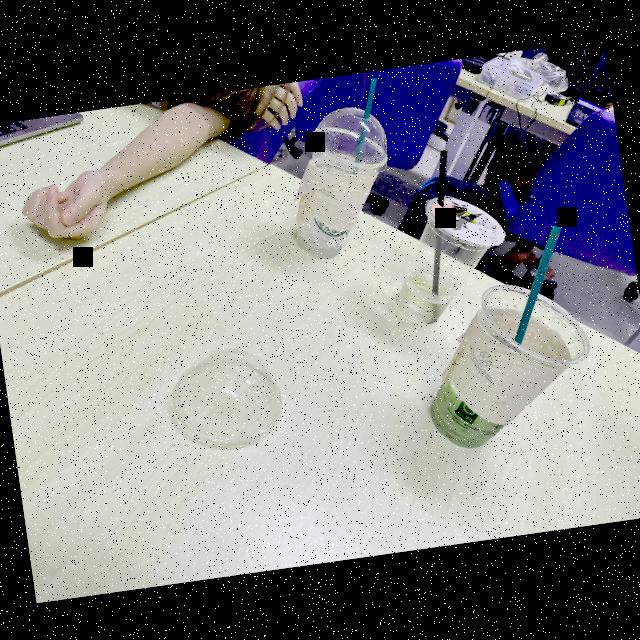plastic_cup: (403, 278, 600, 460), (380, 190, 513, 338), (276, 133, 396, 272)
plastic_cup_lid: (159, 322, 290, 466), (310, 98, 392, 180)
straw: (483, 214, 586, 358), (407, 139, 482, 302), (332, 70, 399, 184)
